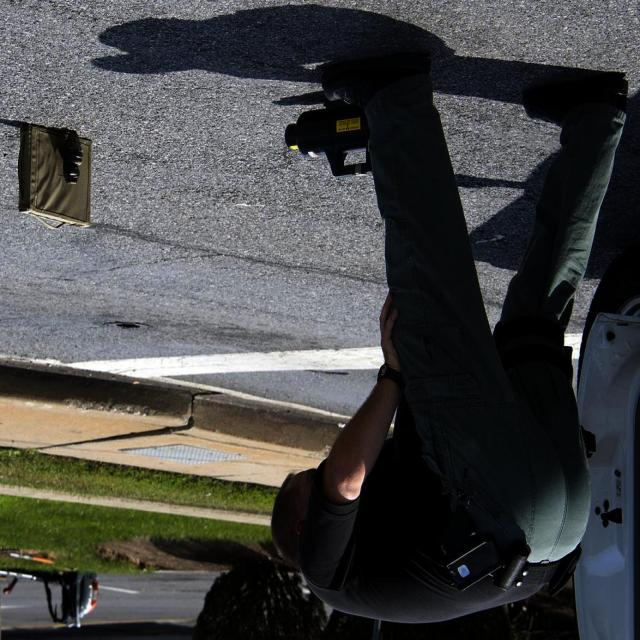grenade: (62, 130, 85, 188)
